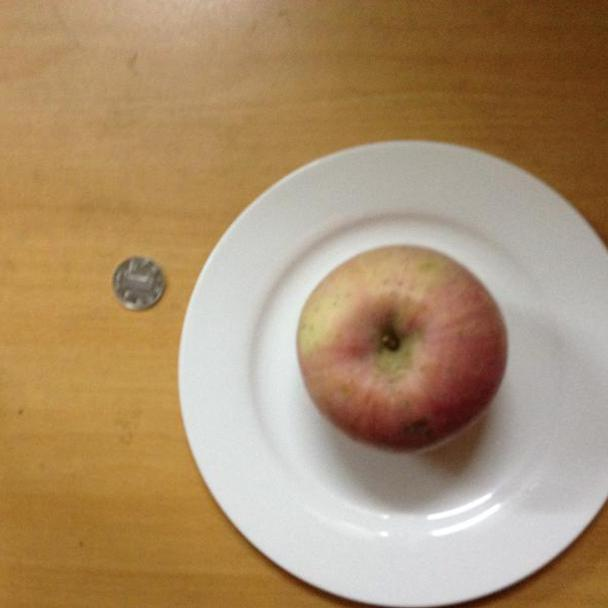apple: (296, 244, 511, 453)
